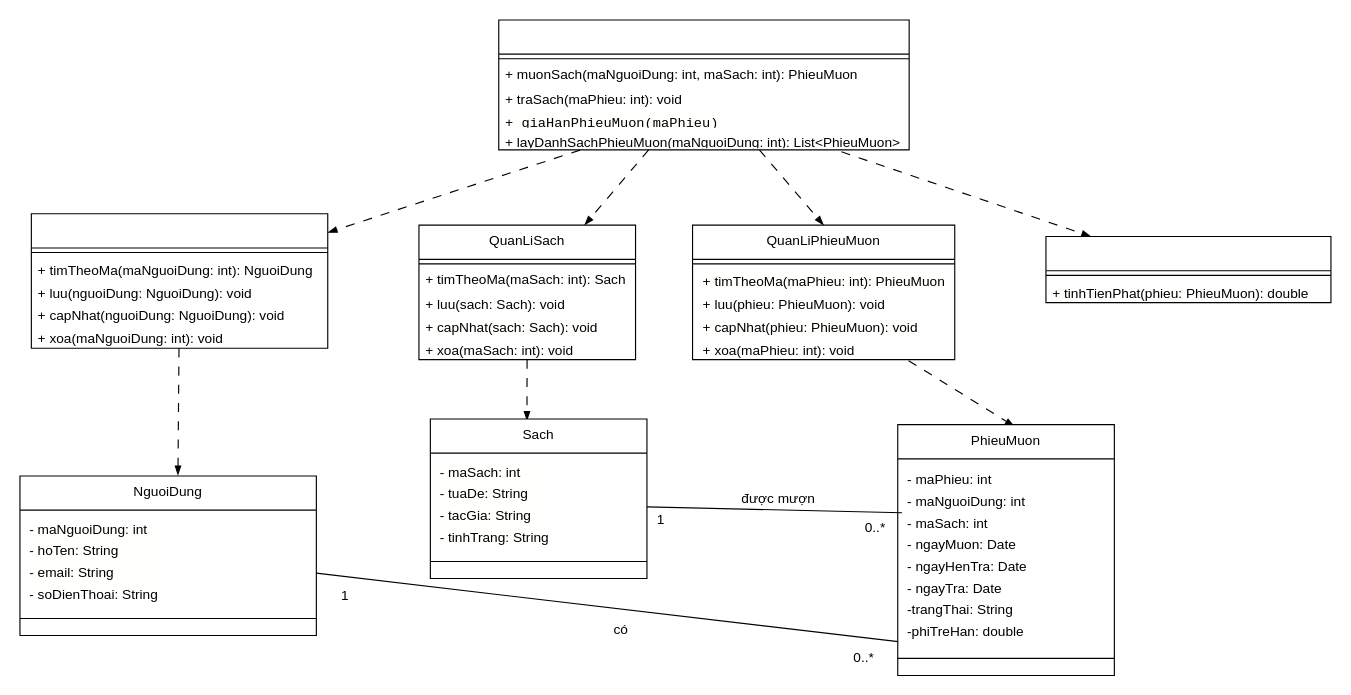
The diagram is 1351 pixels wide and 695 high, and some of its shapes have lost their labels. The box of each missing label's shape, as (x1, y1, x2, y2) in pixels:
QuanLiMuonSach: (498, 19, 909, 150)
QuanLiNguoiDung: (30, 213, 328, 348)
TinhPhiTeHan: (1045, 235, 1331, 303)
